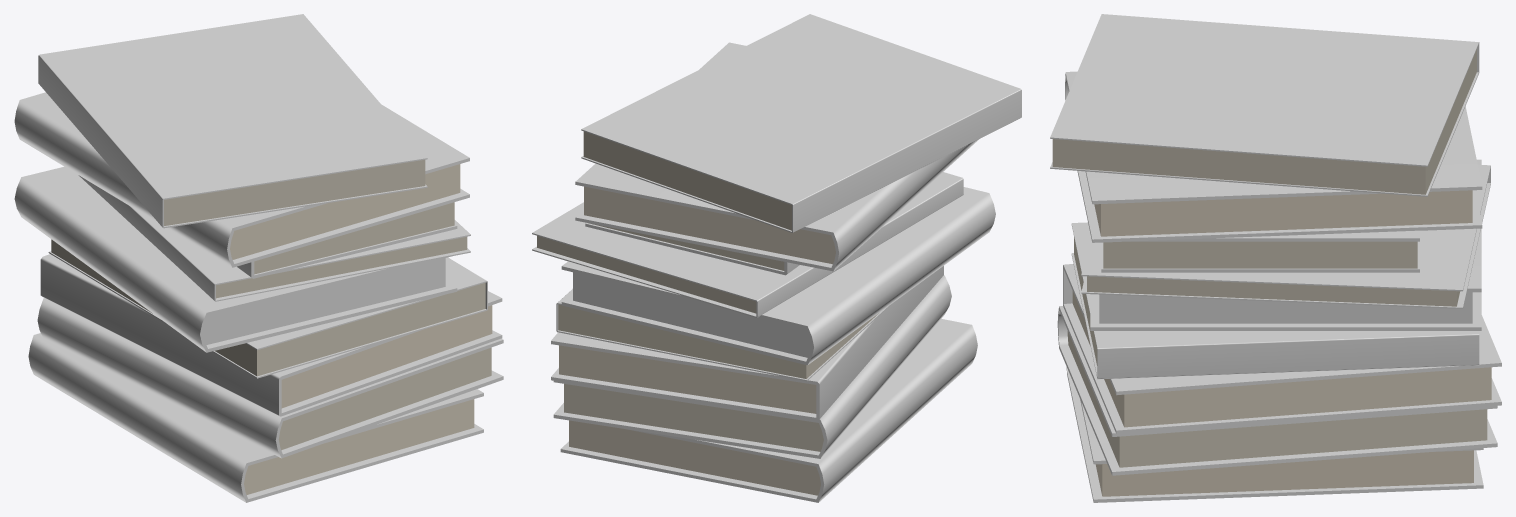
The picture shows the model from 3 angles, left to right: view 1: azimuth 30°, elevation 25°; view 2: azimuth 150°, elevation 25°; view 3: azimuth 270°, elevation 25°; orthographic projection. The views are drawn at different scales.
Parts seen in each view (by area): view 1: SM_H_Government_Tide_Book_02F; view 2: SM_H_Government_Tide_Book_02F; view 3: SM_H_Government_Tide_Book_02F.
Boxes of the visible parts, x1=… form: SM_H_Government_Tide_Book_02F: x1=14, y1=14, x2=503, y2=502; SM_H_Government_Tide_Book_02F: x1=532, y1=14, x2=1021, y2=502; SM_H_Government_Tide_Book_02F: x1=1050, y1=14, x2=1501, y2=502.
Size of the model in its own units: 14.73 by 13.78 by 11.72.
